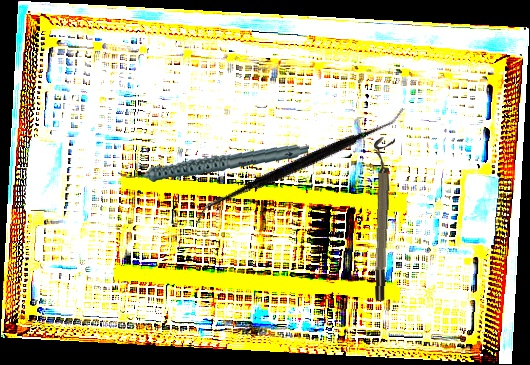Fixation Ring: (365, 136, 396, 302)
Handpiece: (117, 128, 309, 196)
Spatula Surgical: (195, 47, 406, 286)
